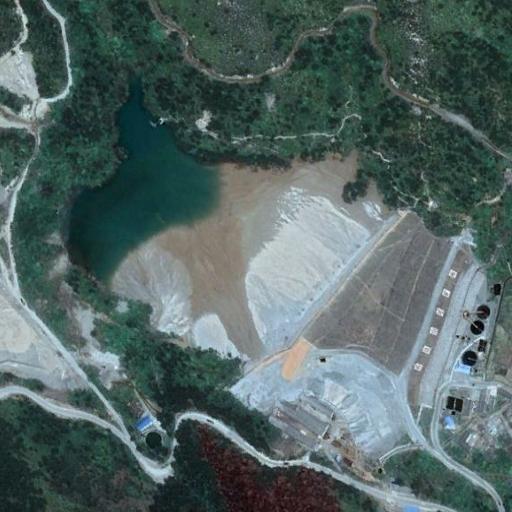tp: (66, 67, 472, 454)
